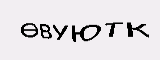Ө: (18, 21, 38, 39)
